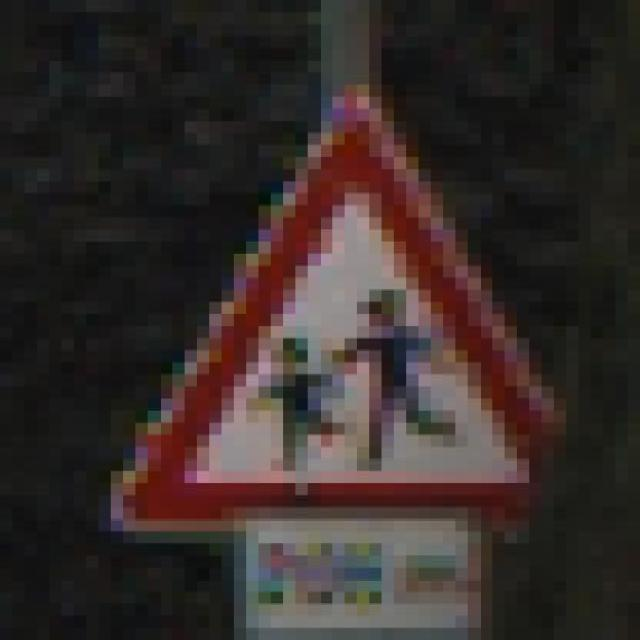Beware of children: (86, 74, 603, 546)
